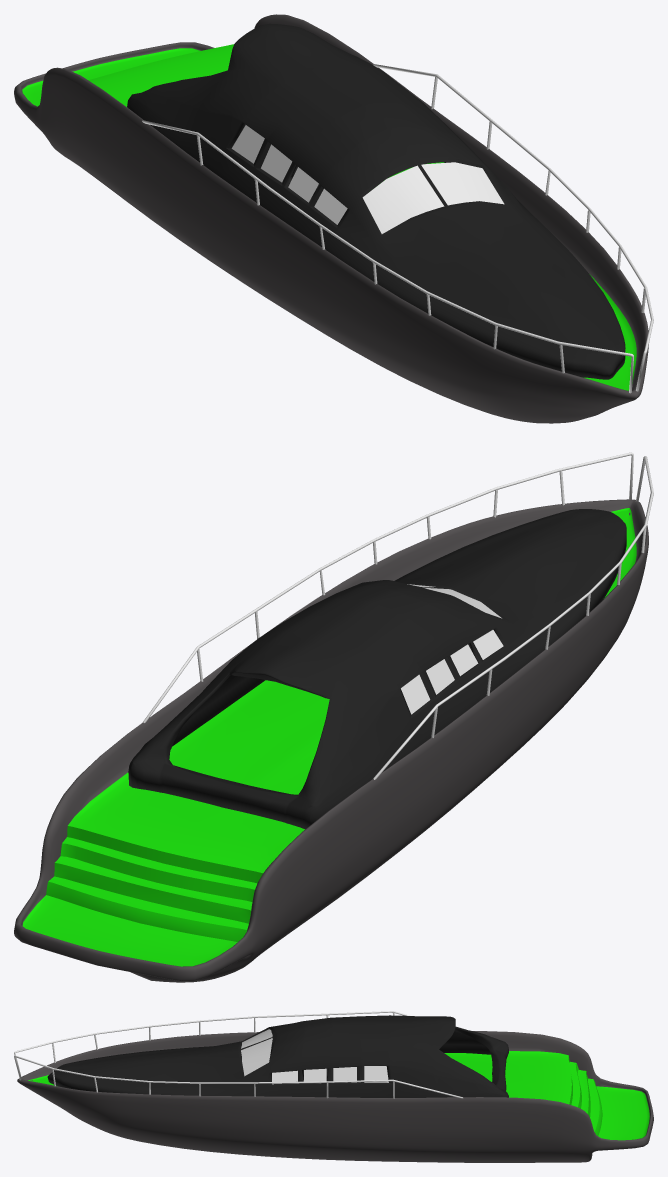
File: YachtV3.fbx
3 views of the same model, one above another, from view 1: azimuth 30°, elevation 25°; view 2: azimuth 150°, elevation 25°; view 3: azimuth 270°, elevation 25° (orthographic). The views are drawn at different scales.
Visible parts, largest first — view 1: BoatTop, BoatBottom, BoatTop.001, Metalliaita.001, BoatTop.002; view 2: BoatBottom, BoatTop, Metalliaita.001, BoatTop.002; view 3: BoatBottom, BoatTop, Metalliaita.001, BoatTop.002, BoatTop.001.
Boxes of the visible parts, box(x1,y1,x2,y2) form: BoatTop: box(127, 23, 625, 379); BoatBottom: box(14, 14, 648, 423); BoatTop.001: box(362, 162, 504, 233); Metalliaita.001: box(142, 64, 653, 393); BoatTop.002: box(231, 125, 347, 224); BoatBottom: box(14, 499, 648, 982); BoatTop: box(128, 509, 626, 829); Metalliaita.001: box(142, 452, 653, 779); BoatTop.002: box(401, 630, 503, 714); BoatBottom: box(17, 1031, 653, 1162); BoatTop: box(47, 1015, 508, 1097); Metalliaita.001: box(14, 1011, 462, 1098); BoatTop.002: box(272, 1033, 388, 1084); BoatTop.001: box(241, 1029, 272, 1076).
Size of the model in its own units: 574 by 519 by 2238.
